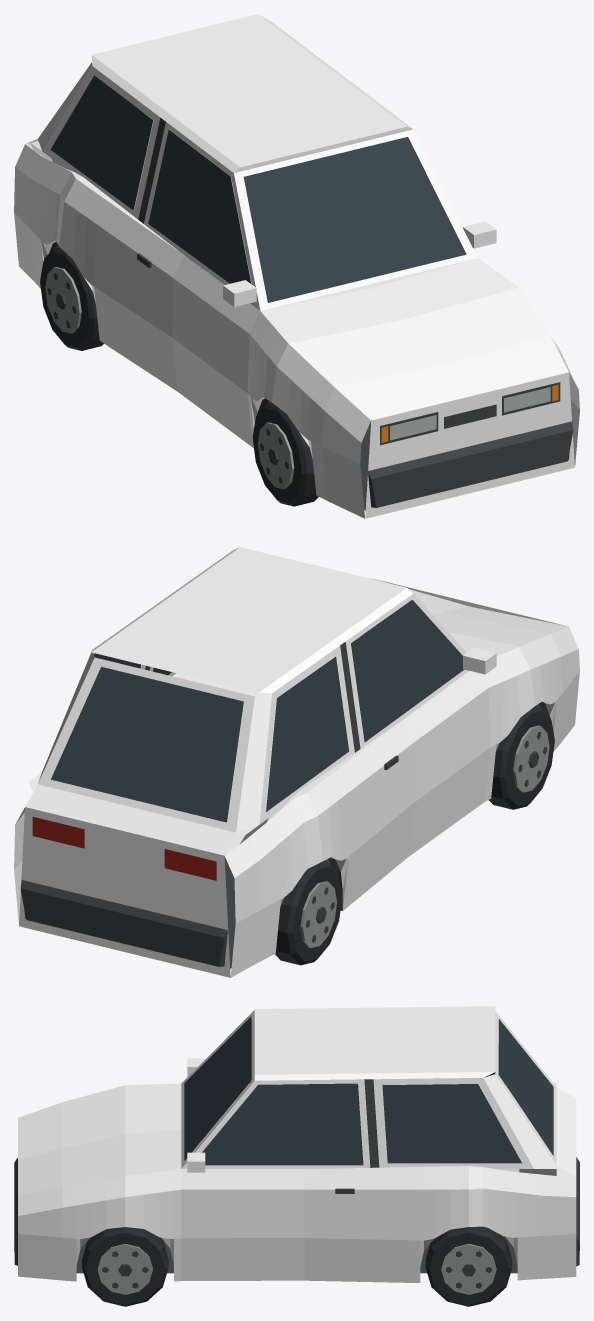
The model's file is saulieu_ecume.glb.
The picture shows the model from 3 angles, top to bottom: view 1: azimuth 30°, elevation 25°; view 2: azimuth 150°, elevation 25°; view 3: azimuth 270°, elevation 25°; orthographic projection. The views are drawn at different scales.
Parts seen in each view (by area): view 1: saulieu_ecume; view 2: saulieu_ecume; view 3: saulieu_ecume.
Boxes of the visible parts, <box> form: saulieu_ecume: <box>14,14,579,518</box>; saulieu_ecume: <box>14,547,579,977</box>; saulieu_ecume: <box>14,1006,579,1306</box>.
Size of the model in its own units: 1.64 by 1.61 by 3.77.
Materials: 8 (1 with a texture image).
